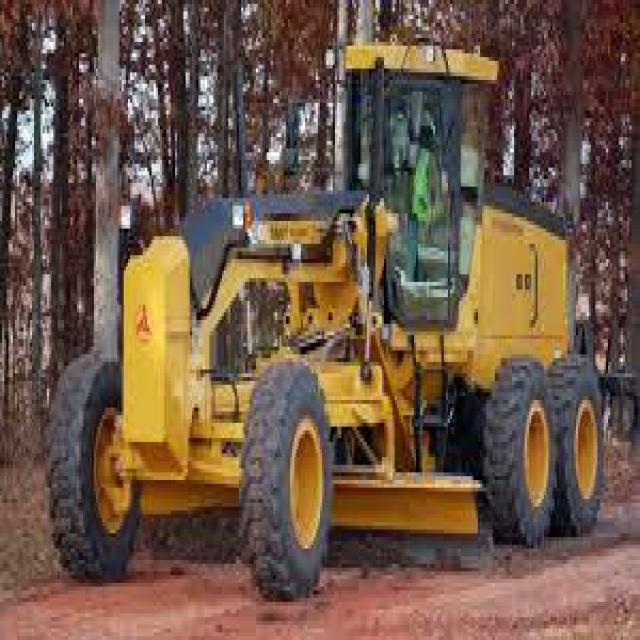Grader: (49, 16, 619, 590)
